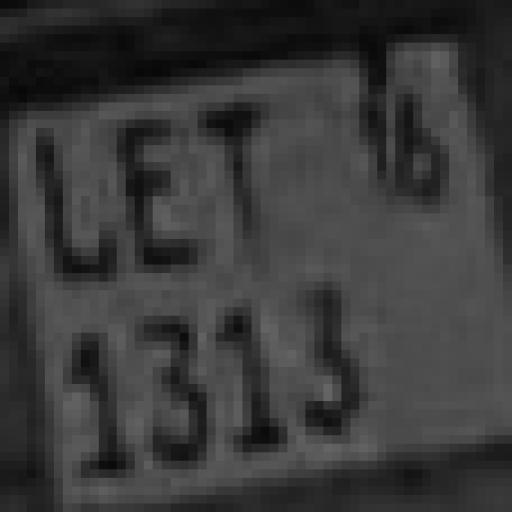1: (216, 304, 290, 460), (66, 331, 137, 484)
3: (288, 283, 368, 446), (132, 307, 207, 474)
E: (120, 110, 200, 266)
L: (31, 118, 114, 283)
T: (196, 90, 280, 251)
